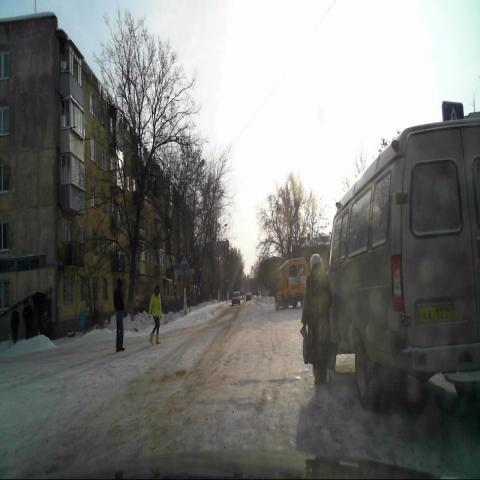5_19_1: (181, 253, 188, 267)
